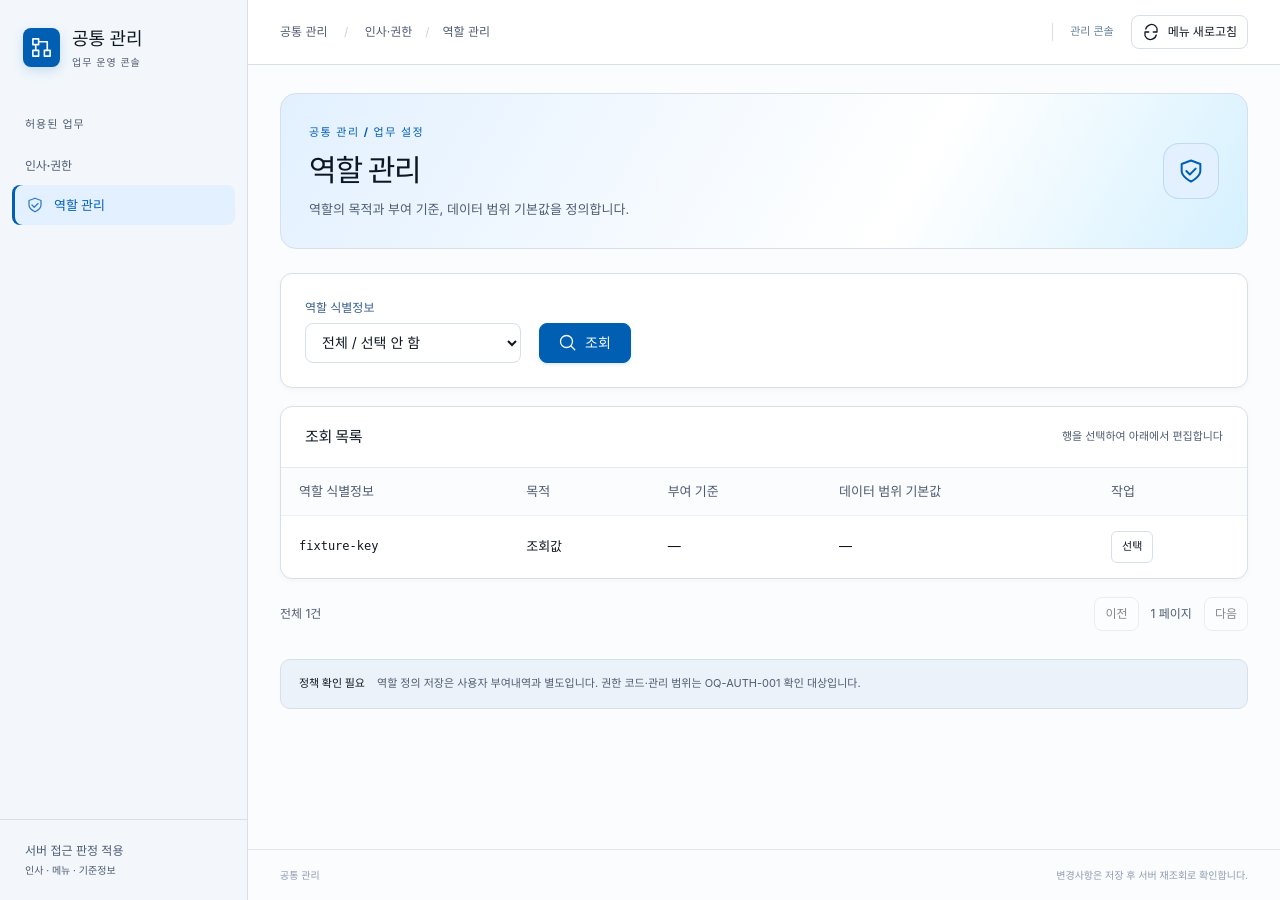
Test: 공통 상태와 경합 복구 › 빈 조회는 이전 선택과 폼을 없애고 실패 재시도는 읽기만 수행한다
Step 1. Click the button "선택" → (1132,547), box [1111,531,1153,563]
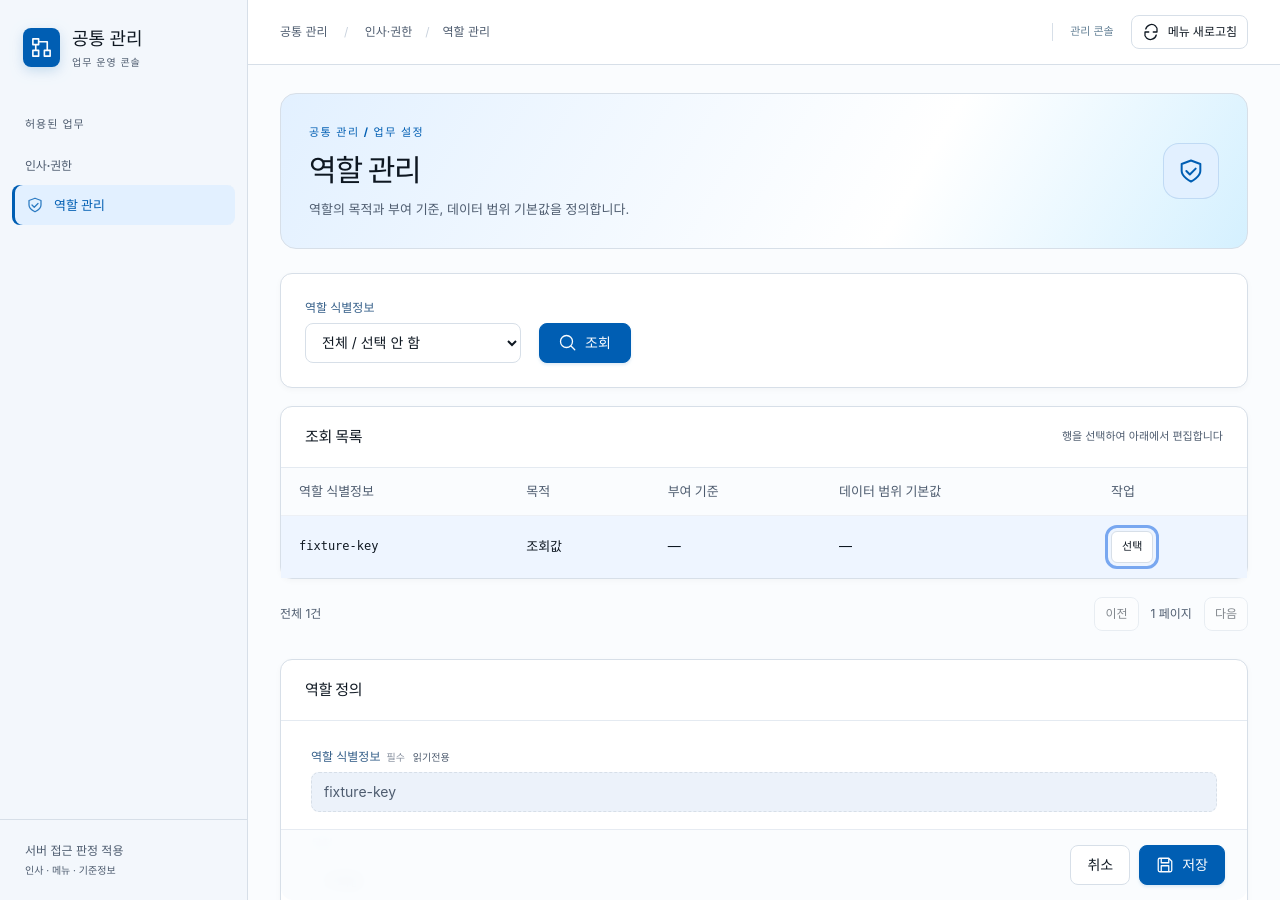
Step 2. Click the button "조회" → (585,343), box [539,323,631,363]
(page scrolled)
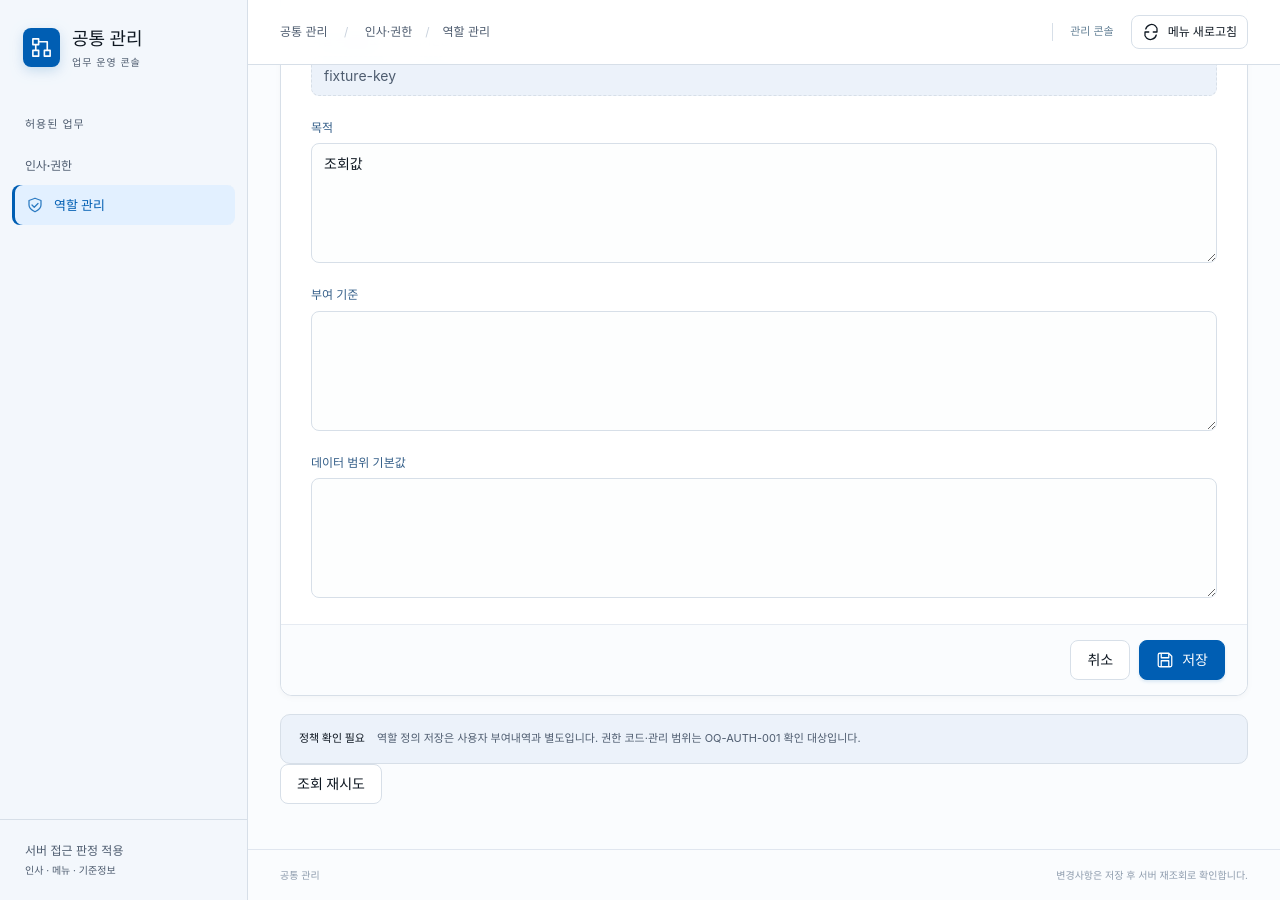
Step 3. Click the button "조회 재시도" → (331,784), box [280,764,382,804]
(page scrolled)
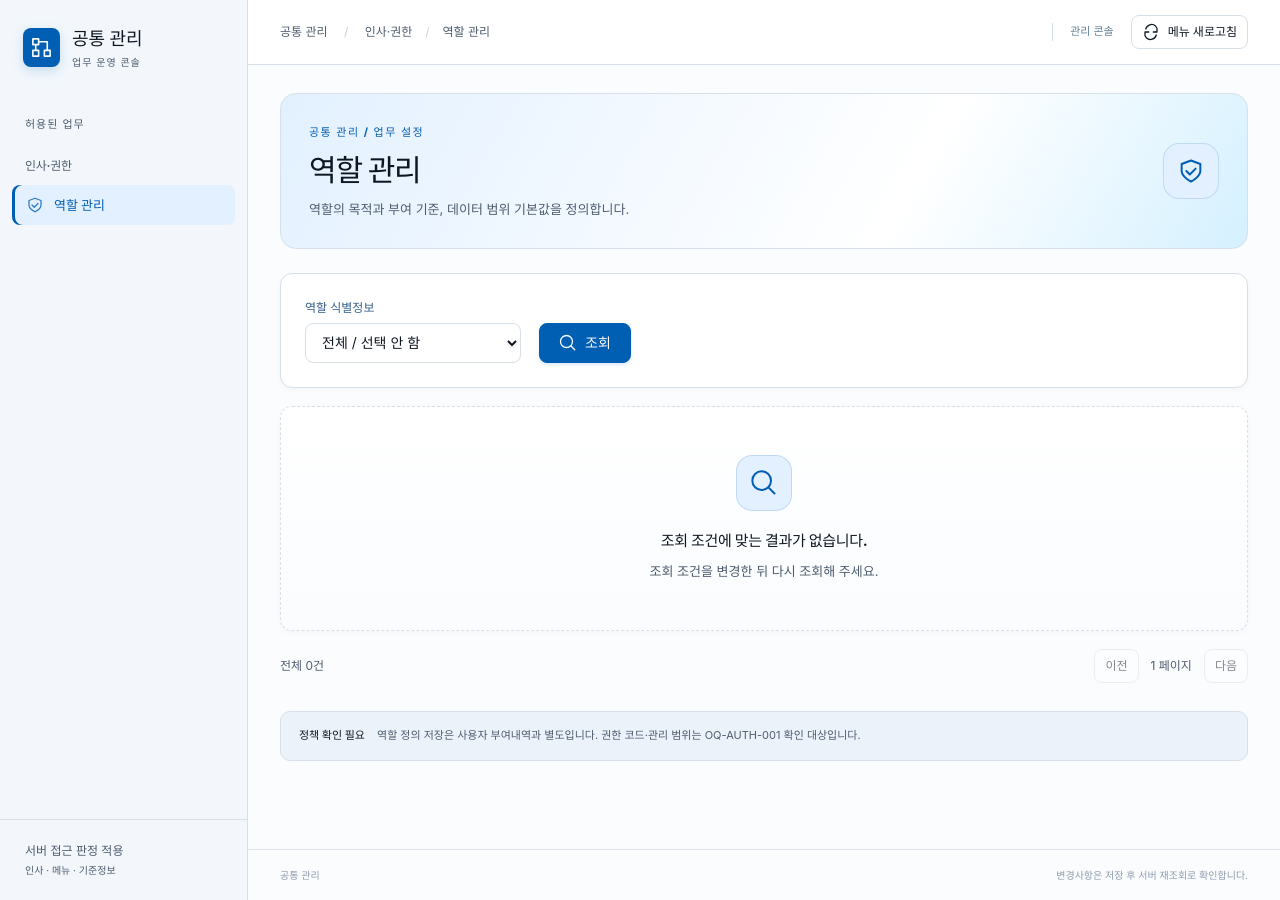
Check: the heading "조회 조건에 맞는 결과가 없습니다." is shown, box [661,531,867,550]
